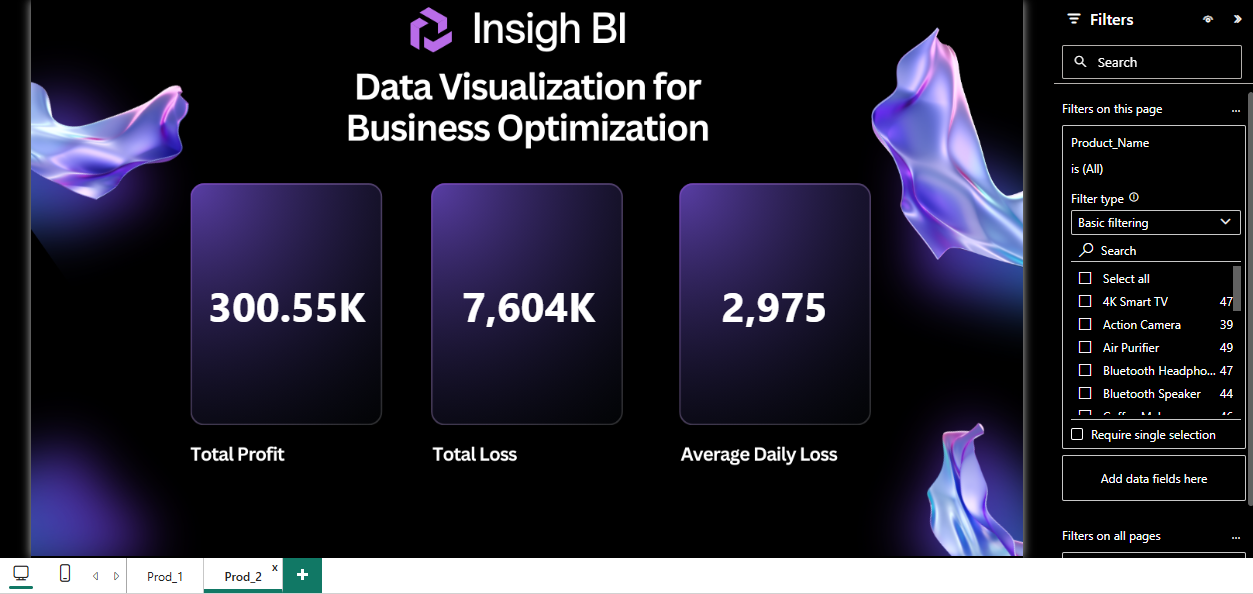

What the dashboard file says about the page in this screenshot:
{"tool":"powerbi","page":{"name":"Test_2","canvas":[1280,720],"ordinal":1},"visuals":[{"type":"card","fields":{"Values":["Measures Table.Total Profit"]},"box":[208.4,240.8,242.2,304.2],"z":0},{"type":"card","fields":{"Values":["Measures Table.Total loss"]},"box":[516.8,240.8,249.2,304.2],"z":1},{"type":"card","fields":{"Values":["Measures Table.Avg Daily Loss"]},"box":[835,240.8,249.2,304.2],"z":2}]}

Visuals, with their boxes on the page's 1280x720 design canvas (x1, y1, x2, y2). These are canvas units, not pixel positions in the 1253x594 screenshot, which may show the page scaled, cropped or inside an application window:
card - Measures Table.Total Profit: l=208, t=241, r=451, b=545
card - Measures Table.Total loss: l=517, t=241, r=766, b=545
card - Measures Table.Avg Daily Loss: l=835, t=241, r=1084, b=545
